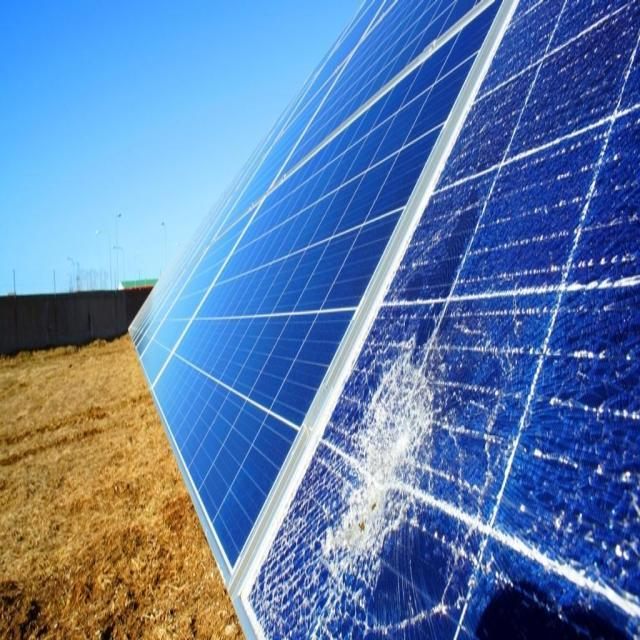Physical-damage: (464, 129, 600, 467), (331, 470, 473, 584), (378, 339, 506, 443)
